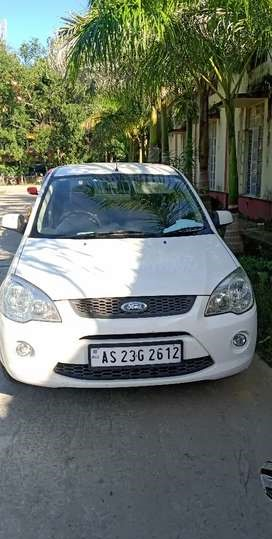AS23G2612: (90, 343, 183, 366)
